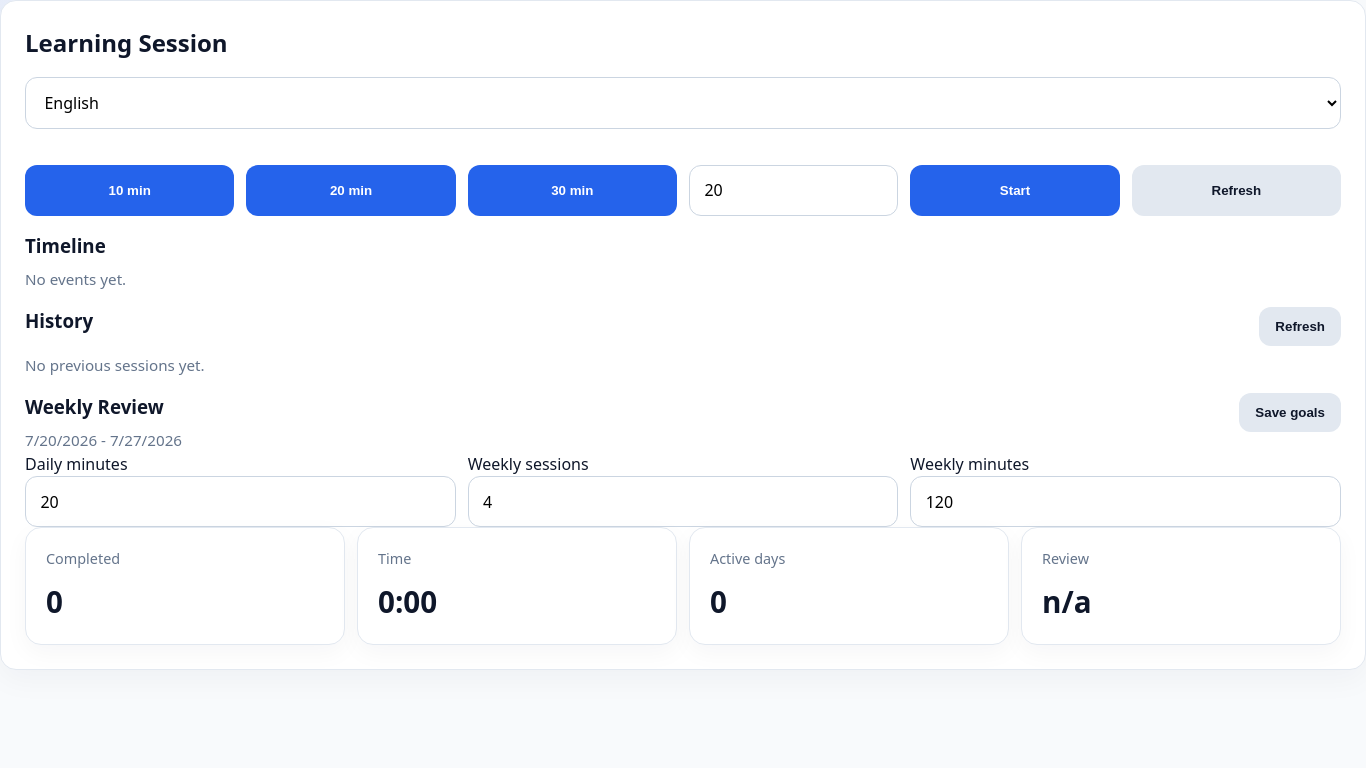
Test case: LearningSessionPanel.vue › shows a validation error for invalid custom duration
Replace the text in the number field named "Planned minutes" with "0" at coordinates (794, 190), box top-left (689, 165), bottom-right (898, 216)
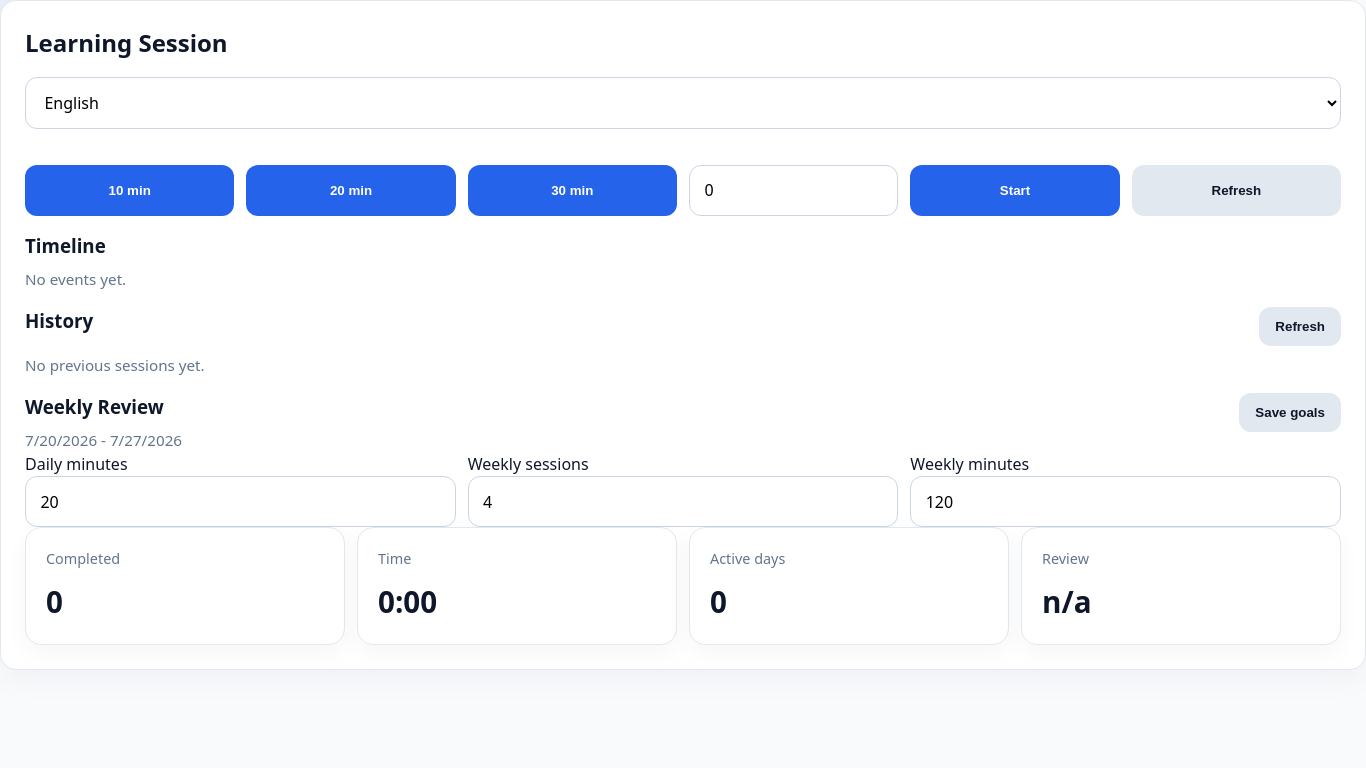
Click the button "Start".
click(1015, 190)  # box top-left (910, 165), bottom-right (1120, 216)
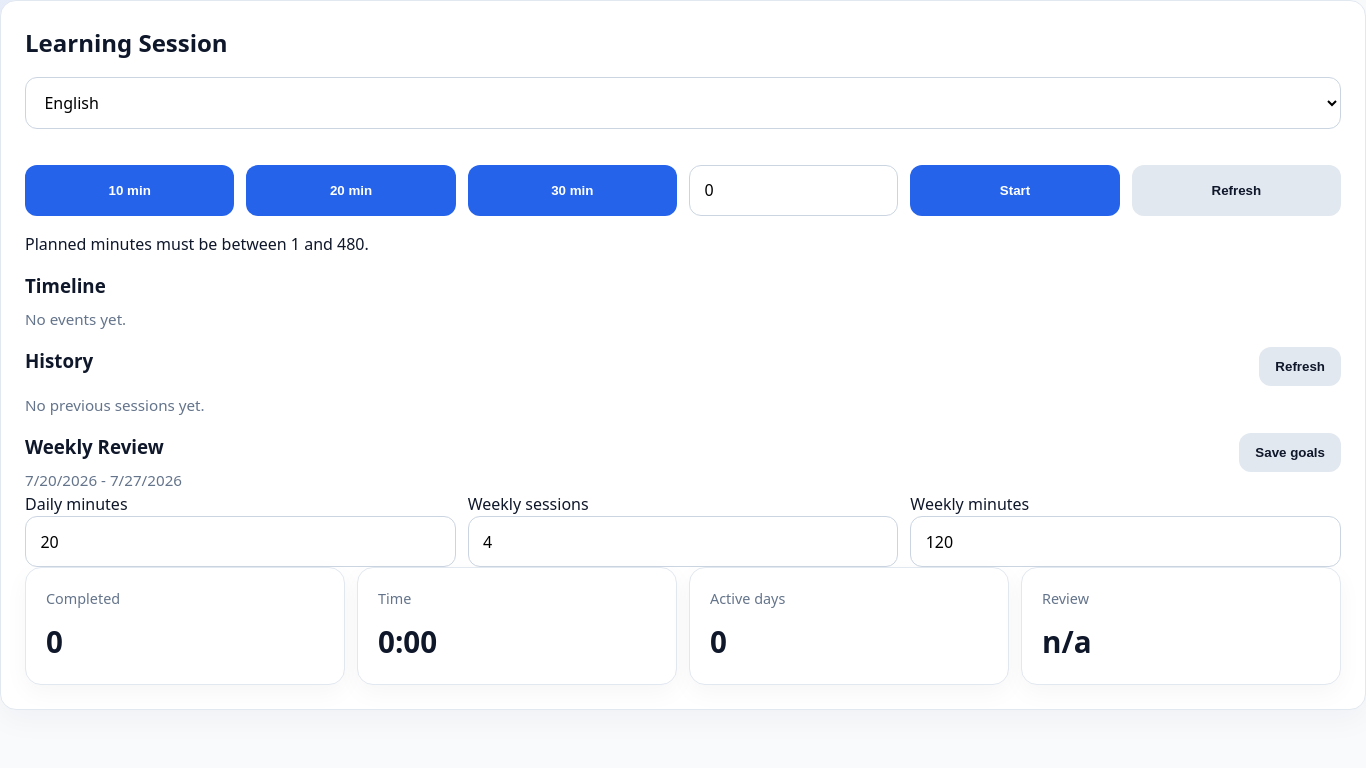
Check: the text "Planned minutes must be between 1 and 480." is shown, box top-left (25, 233), bottom-right (369, 255)
